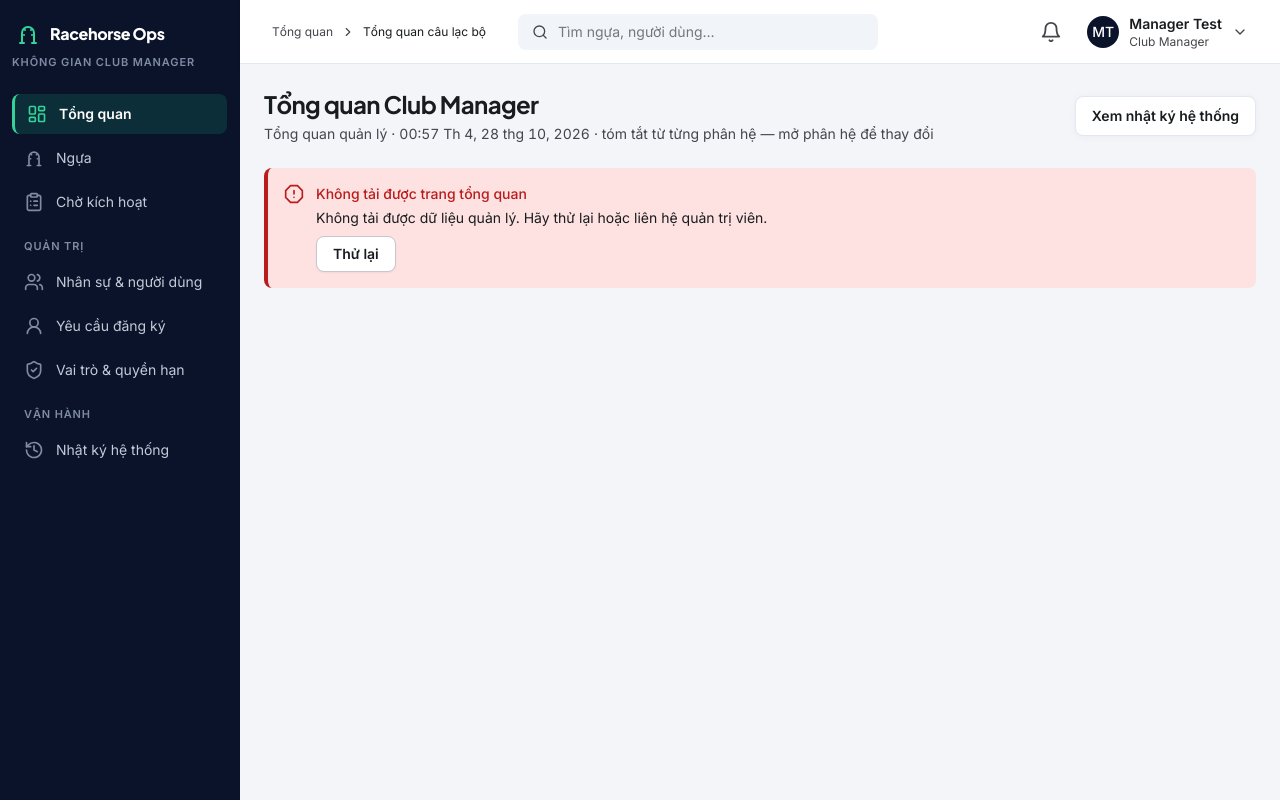
Test case: CORE-052 dashboard › supports loading, sanitized errors and a successful retry without fallback
expect the text "Không tải được trang tổng quan" is shown: met, box [316,185,527,202]
What coordinates should you click on to do the following:
click the button "Thử lại"
I would click on:
 (356, 254)
Its box is [316,236,396,272].
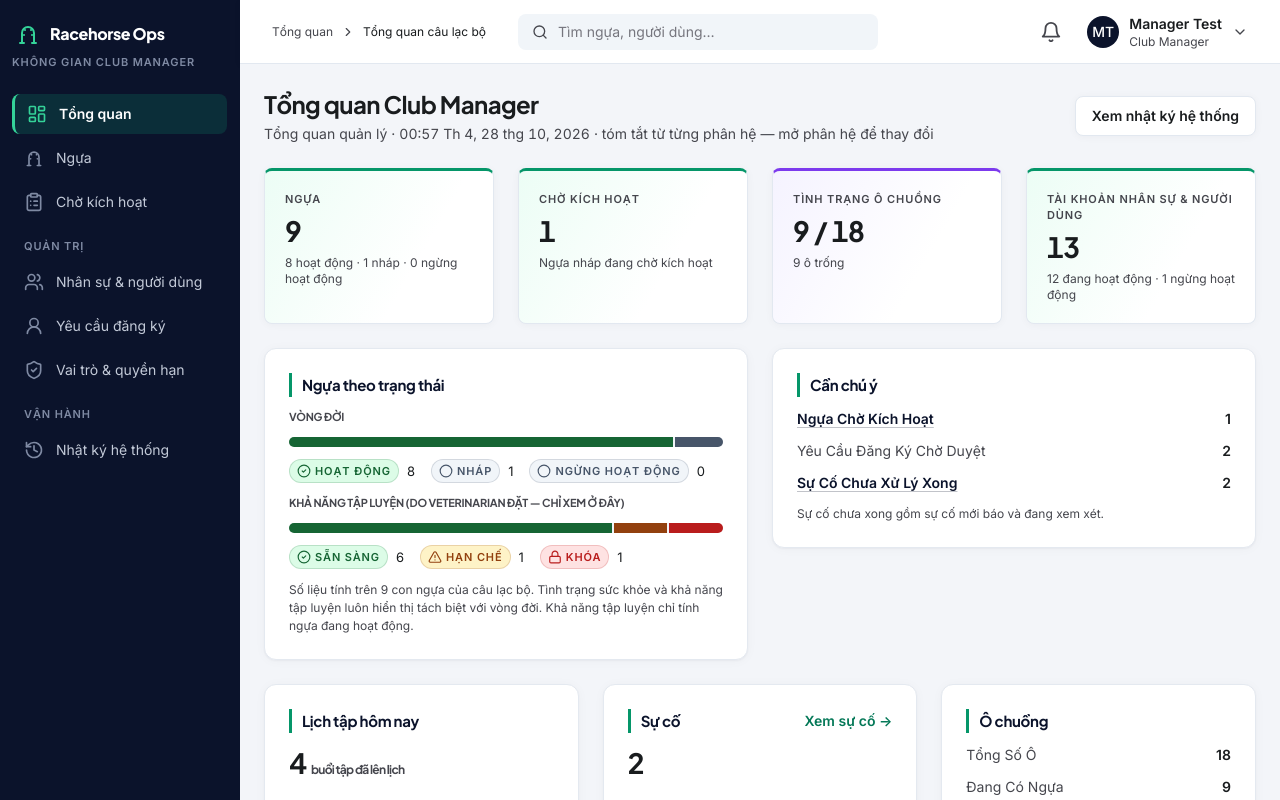
expect the text "9 / 18" is shown: met, box [793,213,864,248]
